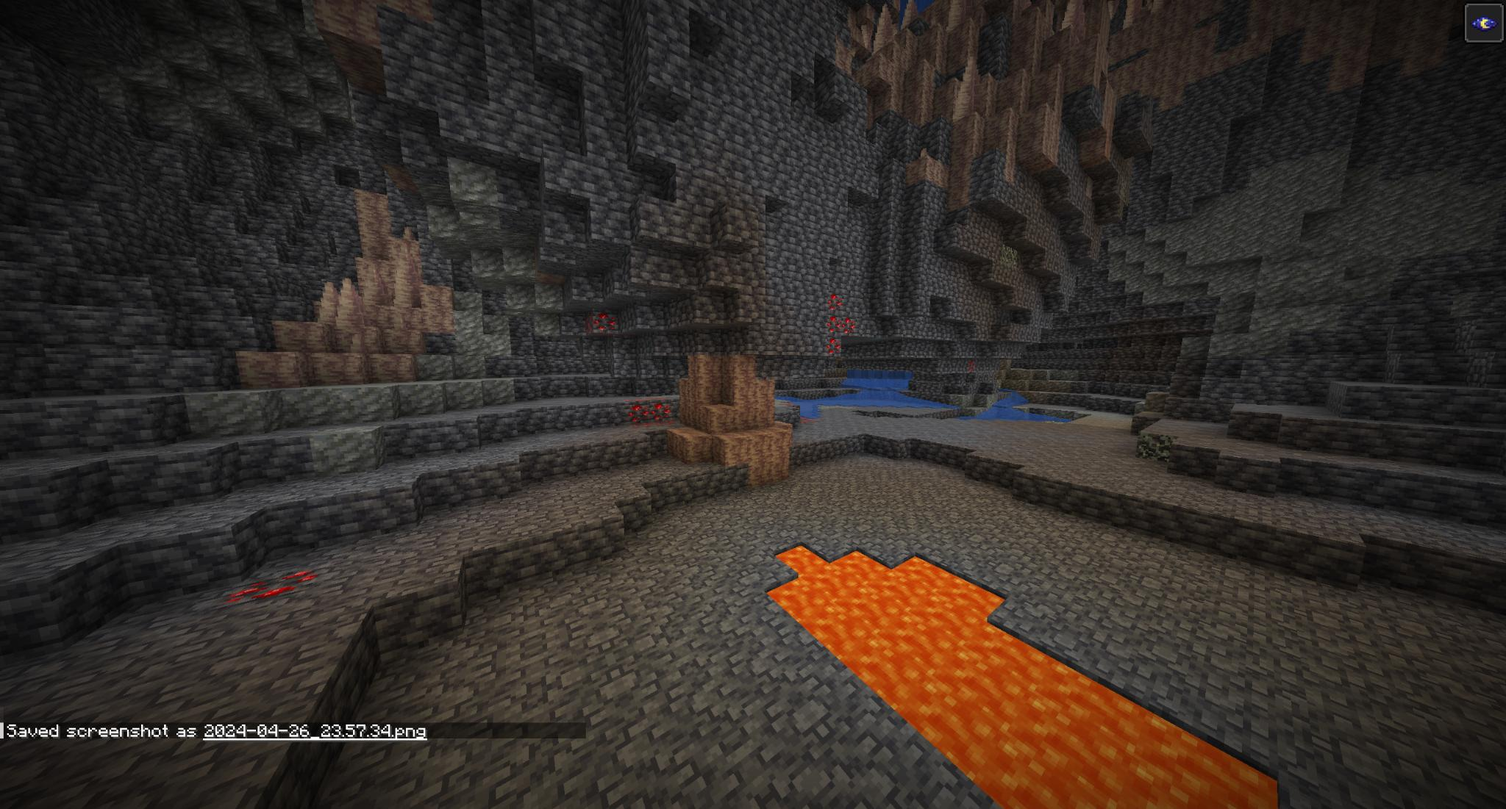redstone ore: (223, 546, 314, 612), (622, 388, 681, 438), (826, 288, 861, 356), (574, 307, 614, 341), (963, 350, 985, 384)
